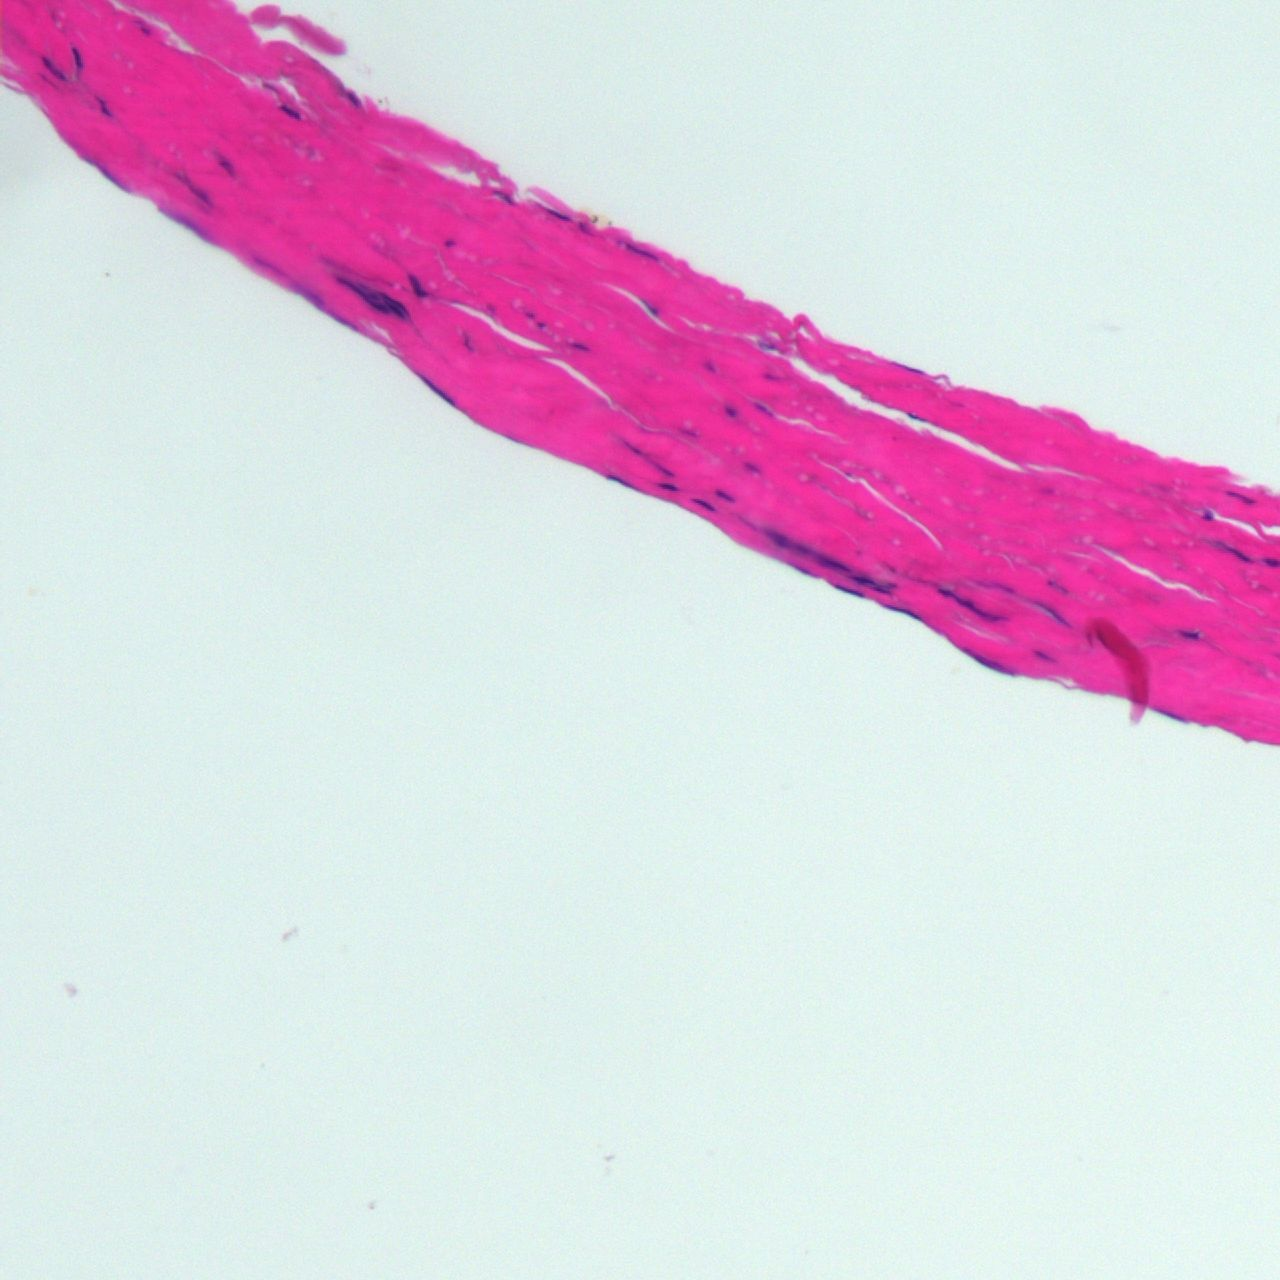nucleus-HE: (335, 268, 411, 324), (295, 285, 362, 333), (157, 199, 218, 248), (933, 584, 1003, 626), (954, 642, 1015, 679), (82, 152, 132, 195), (173, 172, 216, 211), (416, 369, 458, 407), (617, 236, 660, 266), (1035, 598, 1073, 633), (853, 568, 898, 597), (206, 147, 243, 181), (1216, 537, 1254, 565), (38, 54, 68, 86), (602, 471, 641, 493), (883, 601, 921, 622), (539, 203, 572, 227), (274, 100, 305, 125), (1044, 576, 1075, 599), (1155, 704, 1186, 726), (615, 435, 644, 457), (1224, 488, 1254, 508), (835, 580, 863, 600), (819, 554, 847, 574), (692, 495, 719, 515), (649, 459, 675, 478), (769, 526, 789, 550), (491, 188, 515, 207), (409, 272, 427, 298), (790, 561, 816, 579), (1030, 647, 1056, 665), (753, 399, 774, 420), (713, 486, 735, 505), (738, 458, 762, 476), (72, 46, 83, 79), (343, 87, 360, 110), (96, 94, 110, 117), (459, 331, 474, 354), (1182, 628, 1201, 641), (703, 358, 719, 374), (571, 339, 590, 352), (645, 299, 658, 318), (724, 403, 738, 418), (658, 482, 678, 492), (1199, 508, 1213, 520), (536, 320, 546, 331), (524, 309, 535, 320), (445, 238, 452, 248)
